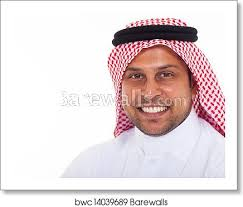middle_eastern_male: (123, 41, 201, 141)
